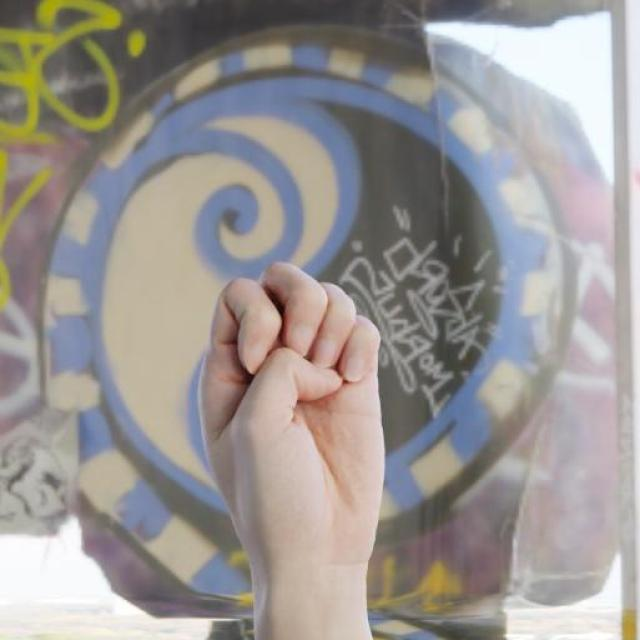E: (194, 256, 390, 578)
